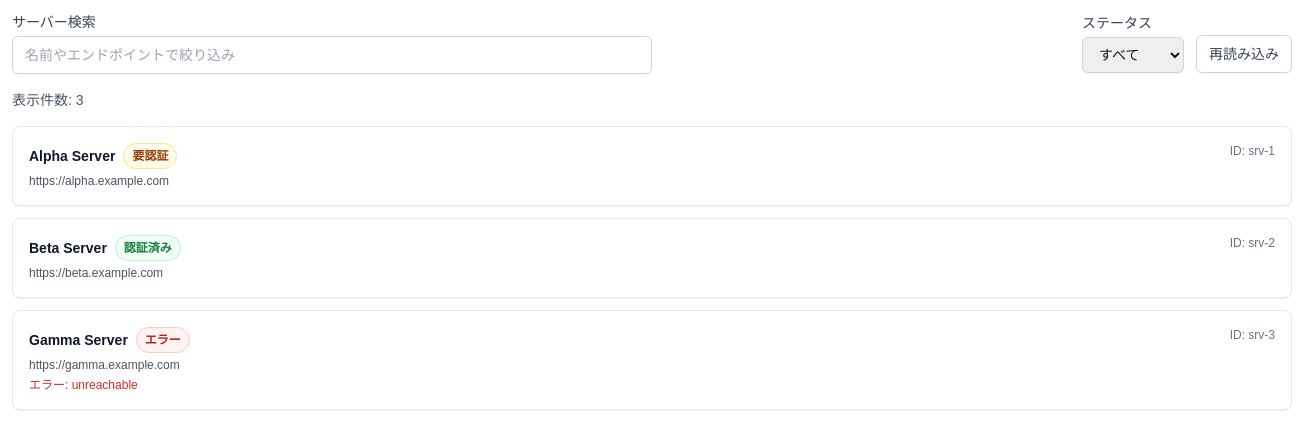
it: RemoteServerList › filters servers by status
Select "認証済み" in the dropdown with test id "status-filter" at (1133, 55), box [1082,37,1184,73]
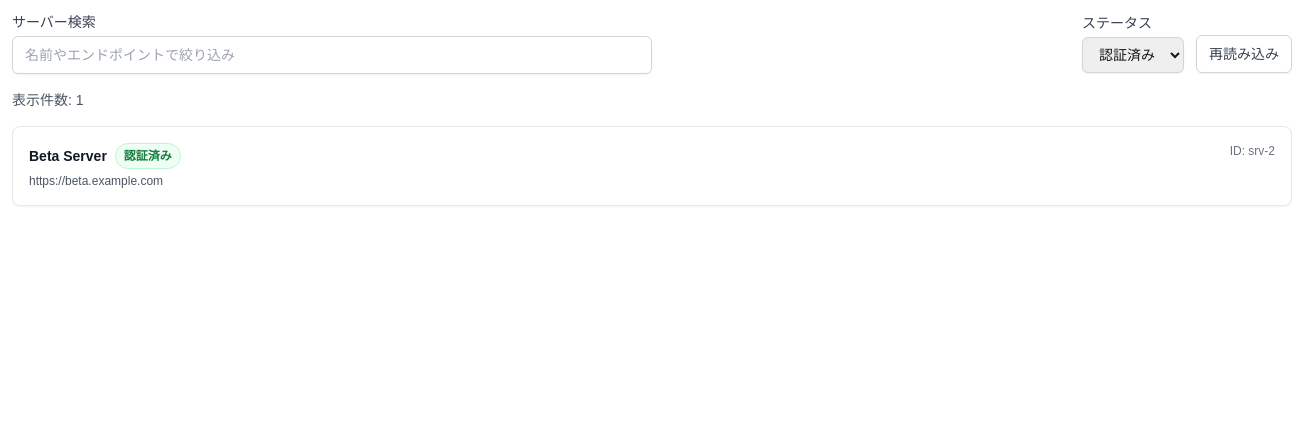
Check: the text "Beta Server" is shown, box [29,146,107,166]
Check: the text "Alpha Server" is gone
Check: the text "Gamma Server" is gone
